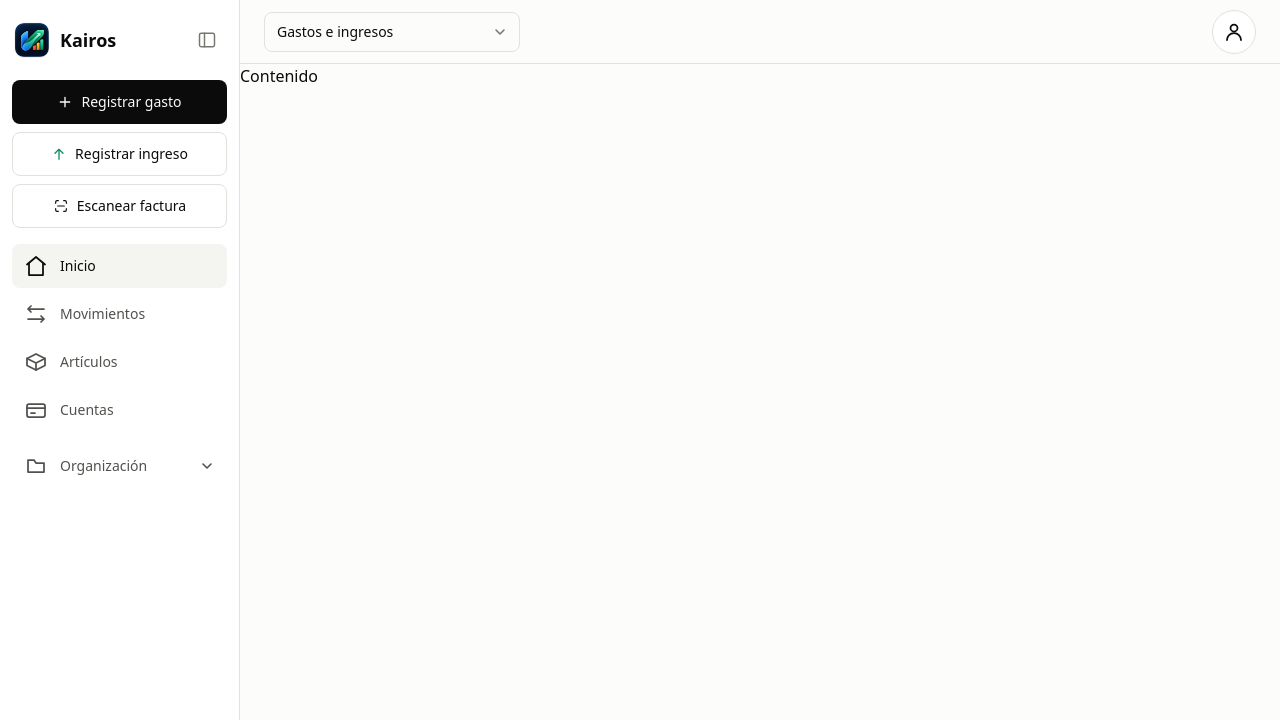
Test: AppLayout navigation › contrae y despliega el sidebar
This screenshot has width=1280, height=720.
Click the button named "Contraer menú lateral".
click(207, 40)  # box x1=187 y1=20 x2=227 y2=60
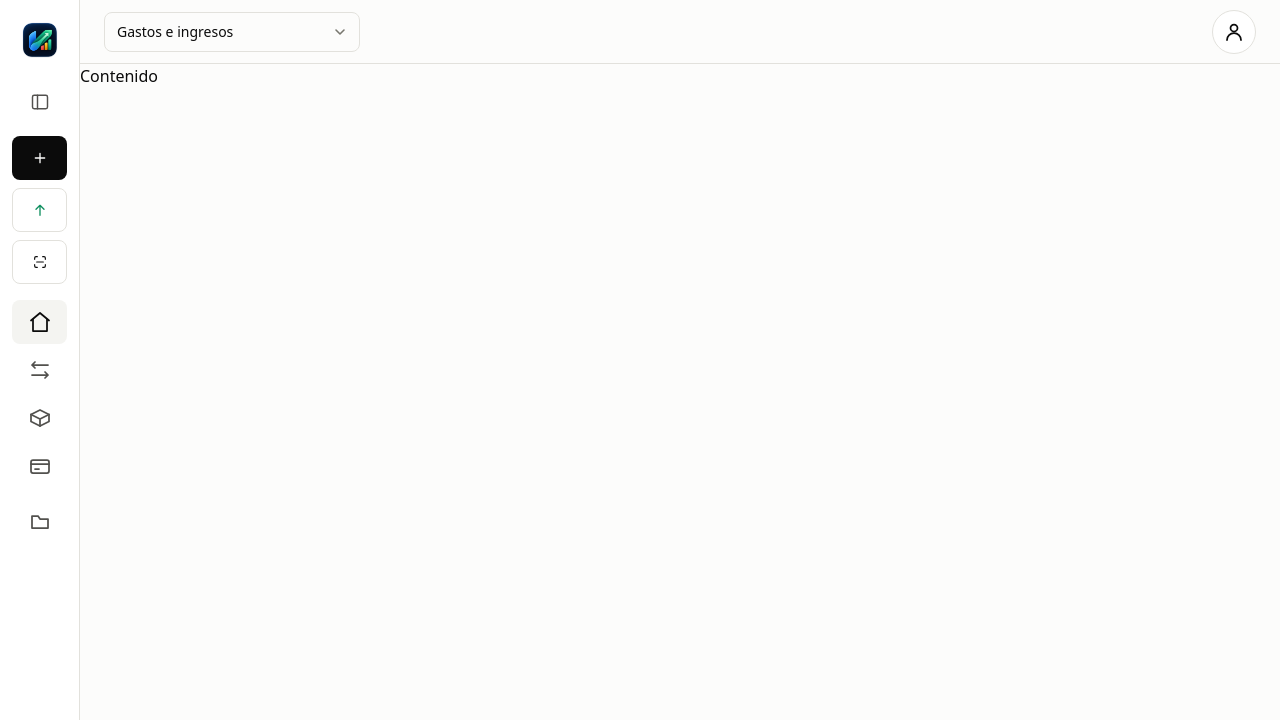
Check: the button named "Desplegar menú lateral" is shown
Click the button named "Desplegar menú lateral".
click(40, 102)  # box x1=18 y1=80 x2=62 y2=124
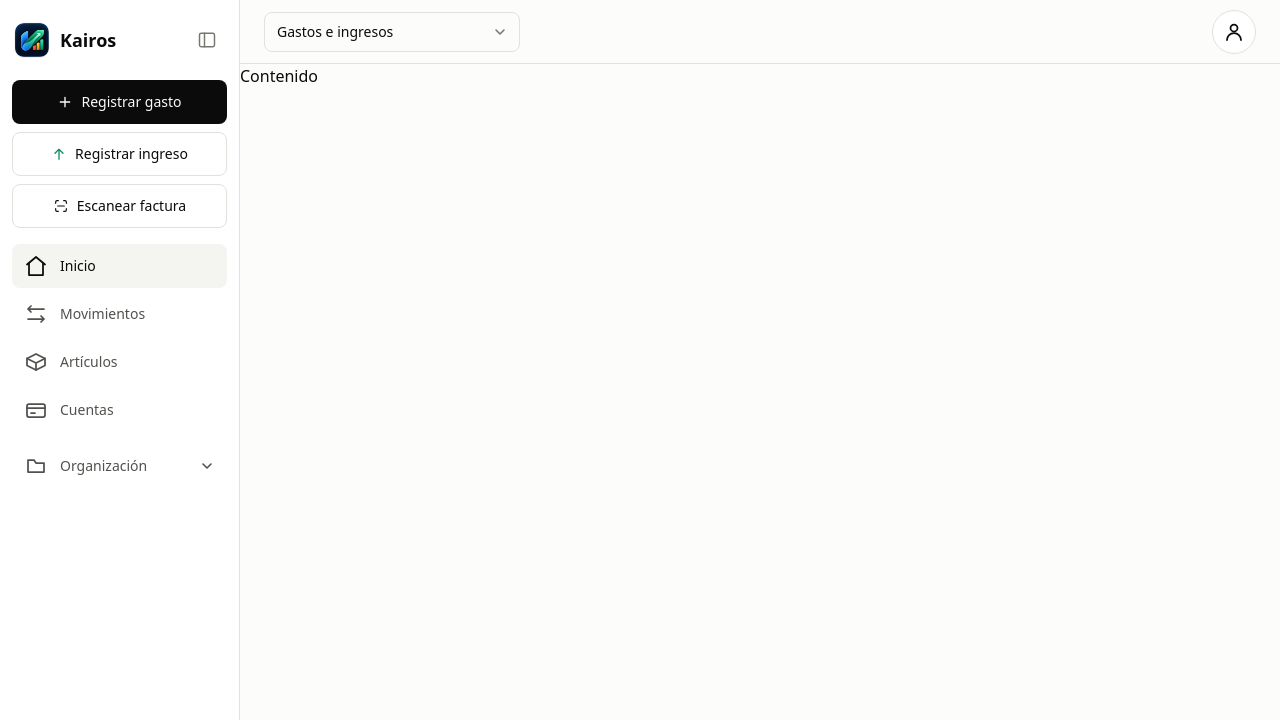
Check: the button named "Contraer menú lateral" is shown, box x1=187 y1=20 x2=227 y2=60
